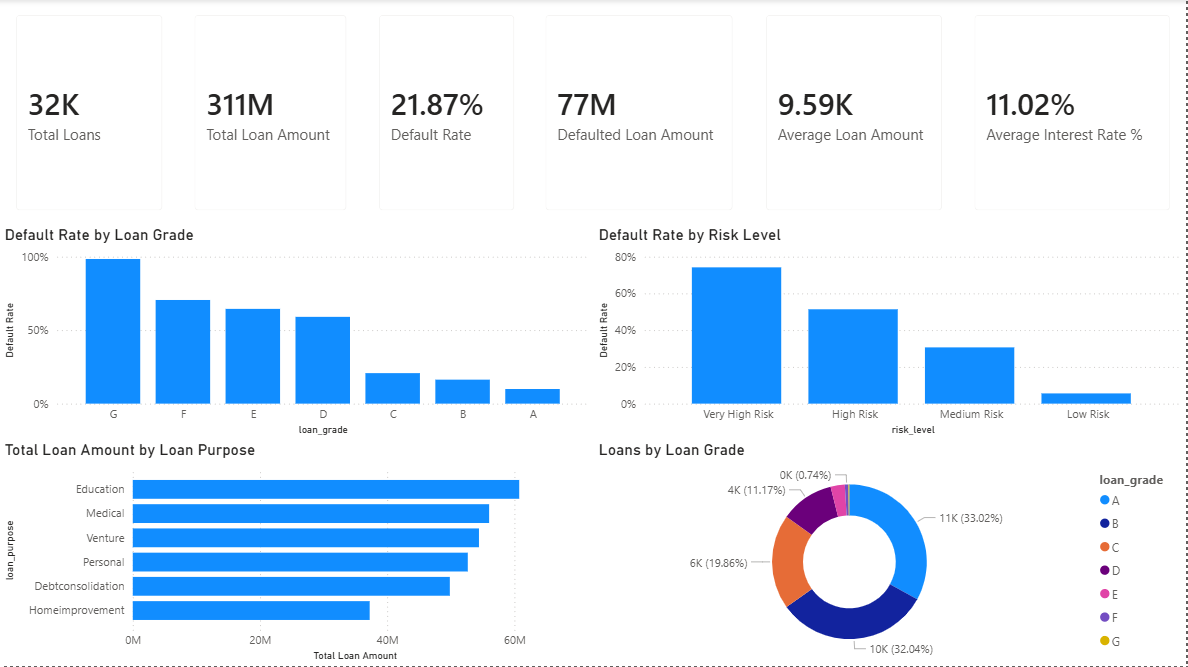

This screenshot's page, from the dashboard's own definition file:
{"tool":"powerbi","page":{"name":"Credit Portfolio Overview","canvas":[1280,720],"ordinal":0},"visuals":[{"type":"cardVisual","fields":{"Data":["loans.Total Loans"]},"box":[0,0,192.8,245],"z":0},{"type":"cardVisual","fields":{"Data":["loans.Total Loan Amount"]},"box":[192.8,0,198.8,245],"z":1000},{"type":"cardVisual","fields":{"Data":["loans.Default Rate"]},"box":[391.6,0,180.8,245],"z":2000},{"type":"cardVisual","fields":{"Data":["loans.Defaulted Loan Amount"]},"box":[572.4,0,237,245],"z":3000},{"type":"cardVisual","fields":{"Data":["loans.Average Interest Rate %"]},"box":[1034.3,0,245,245],"z":4000},{"type":"cardVisual","fields":{"Data":["loans.Average Loan Amount"]},"box":[809.4,0,224.9,245],"z":5000},{"type":"clusteredColumnChart","title":"Default Rate by Loan Grade","fields":{"Category":["loans.loan_grade"],"Y":["loans.Default Rate"]},"box":[0,245,640.7,231],"z":6000},{"type":"clusteredColumnChart","title":"Default Rate by Risk Level","fields":{"Category":["loans.risk_level"],"Y":["loans.Default Rate"]},"box":[640.7,245,638.7,231],"z":7000},{"type":"clusteredBarChart","title":"Total Loan Amount by Loan Purpose","fields":{"Category":["loans.loan_purpose"],"Y":["loans.Total Loan Amount"]},"box":[0,476,640.7,243],"z":8000},{"type":"donutChart","title":"Loans by Loan Grade","fields":{"Category":["loans.loan_grade"],"Y":["loans.Total Loans"]},"box":[640.7,476,638.7,243],"z":9000}]}

Visuals, with their boxes in screenshot pixels (x1, y1, x2, y2), scaled from the page's 1280x720 canvas onto the 1188x667 screenshot:
cardVisual - loans.Total Loans: bbox(0, 0, 179, 227)
cardVisual - loans.Total Loan Amount: bbox(179, 0, 363, 227)
cardVisual - loans.Default Rate: bbox(363, 0, 531, 227)
cardVisual - loans.Defaulted Loan Amount: bbox(531, 0, 751, 227)
cardVisual - loans.Average Interest Rate %: bbox(960, 0, 1187, 227)
cardVisual - loans.Average Loan Amount: bbox(751, 0, 960, 227)
"Default Rate by Loan Grade" clusteredColumnChart: bbox(0, 227, 595, 441)
"Default Rate by Risk Level" clusteredColumnChart: bbox(595, 227, 1187, 441)
"Total Loan Amount by Loan Purpose" clusteredBarChart: bbox(0, 441, 595, 666)
"Loans by Loan Grade" donutChart: bbox(595, 441, 1187, 666)
